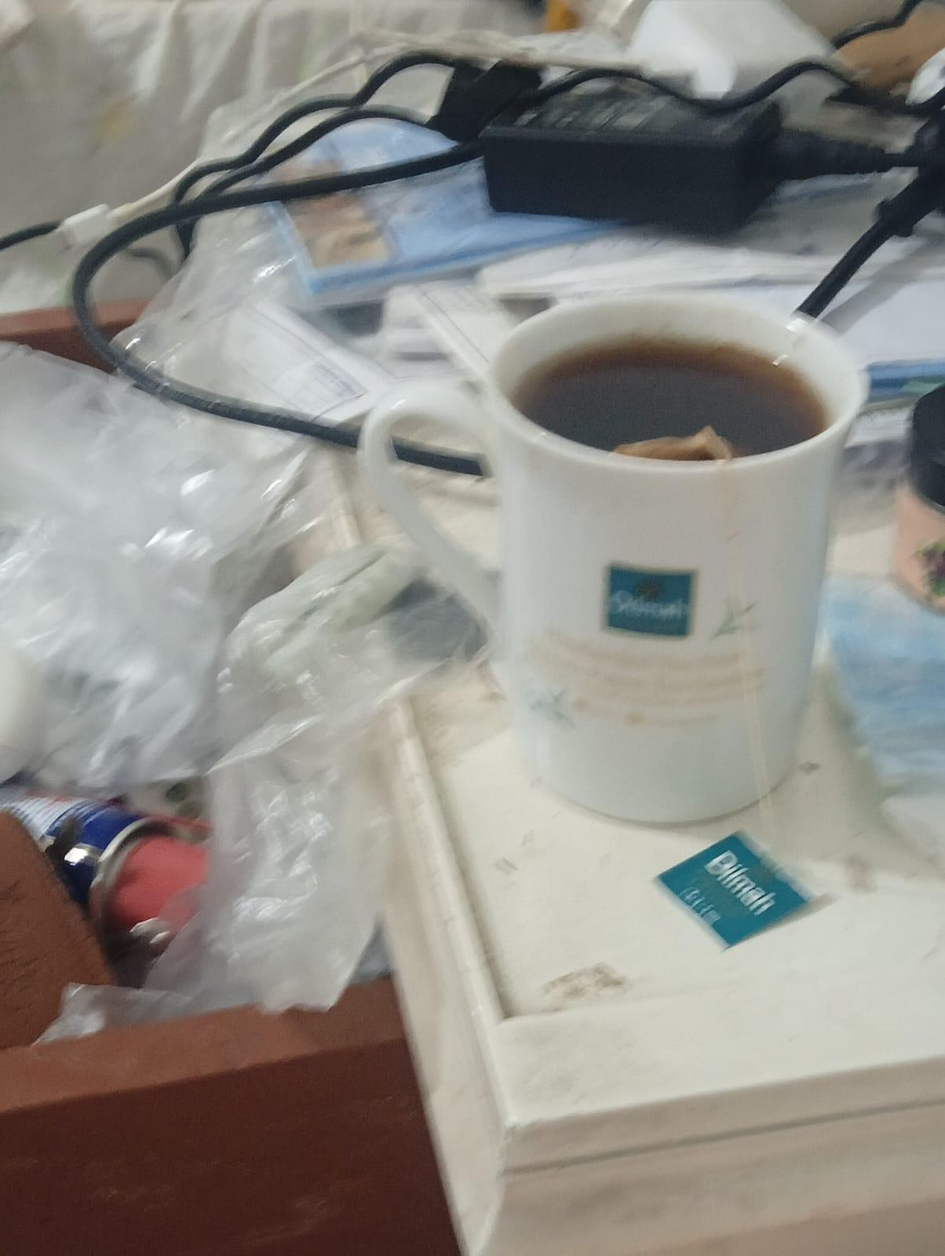cup: (359, 293, 864, 821)
